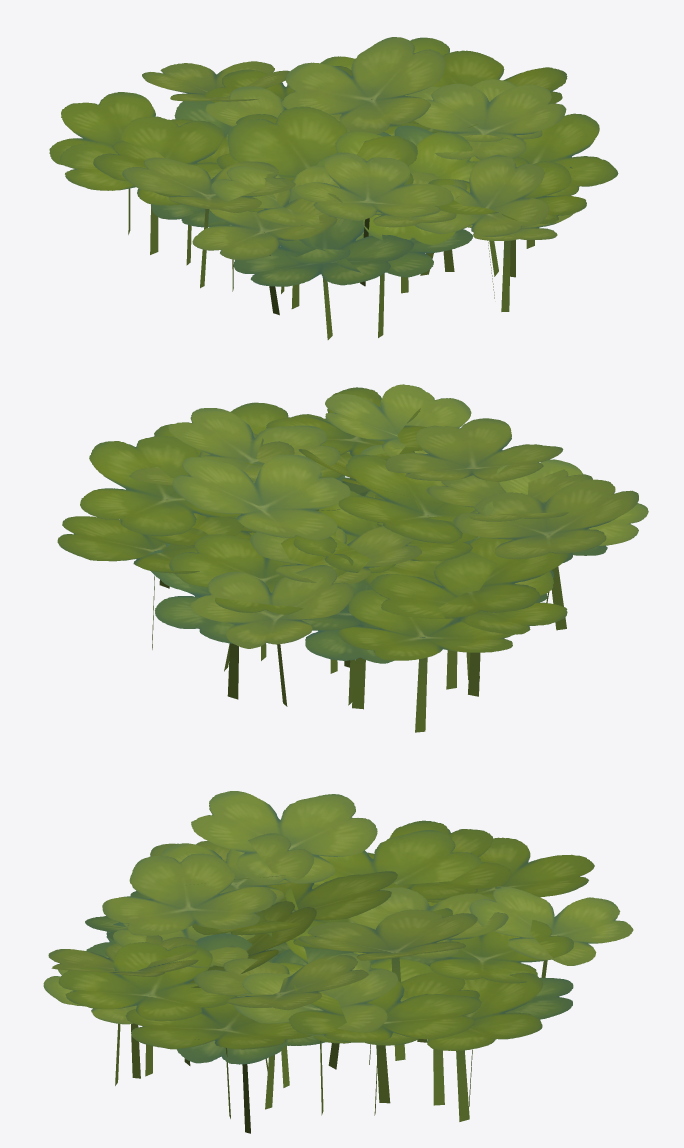
The model's file is Clover_clusters.fbx.
3 renders of one model, top to bottom at view 1: azimuth 30°, elevation 25°; view 2: azimuth 150°, elevation 25°; view 3: azimuth 270°, elevation 25°, orthographic. The views are drawn at different scales.
Parts seen in each view (by area): view 1: group2; view 2: group2; view 3: group2.
Part boxes in pixels (x1=…): group2: x1=49, y1=37, x2=618, y2=339; group2: x1=57, y1=384, x2=648, y2=732; group2: x1=43, y1=791, x2=633, y2=1133.
Size of the model in its own units: 0.8405 by 0.2845 by 0.8677.
